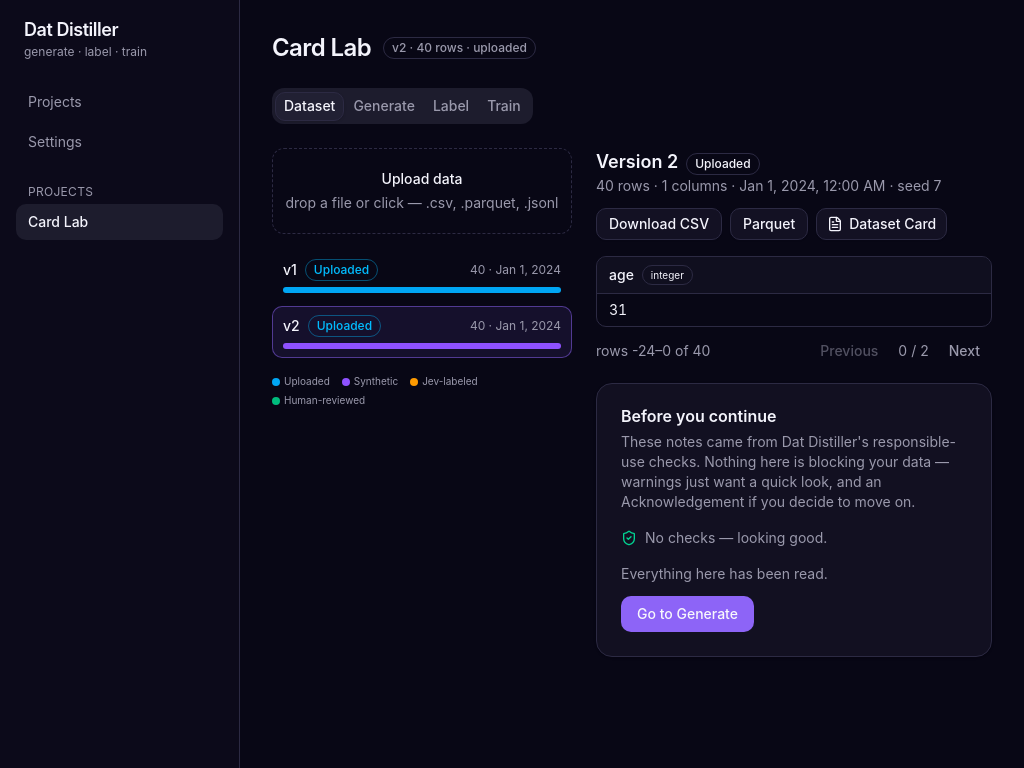
Dataset Cards — from the history panel › shows the raw Markdown on request, and the exact text is downloadable
The image size is (1024, 768).
Click the button "Dataset Card" at (882, 224), box [816,208,947,240]
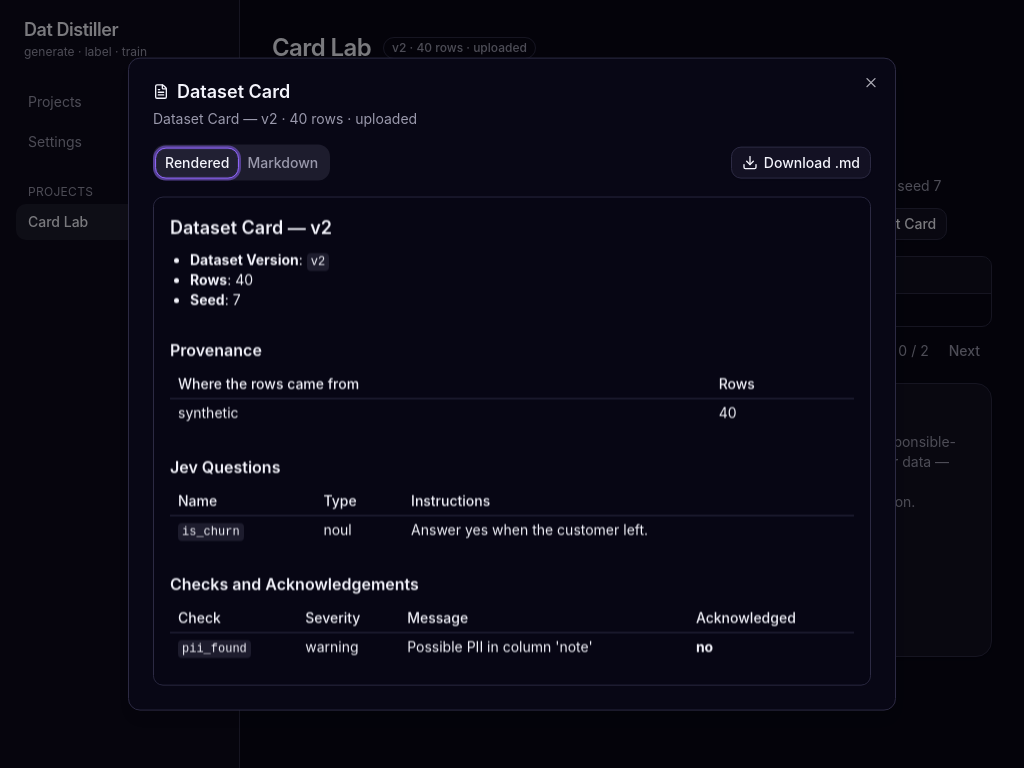
Click the tab "Markdown" at (283, 163), box [238,148,327,177]
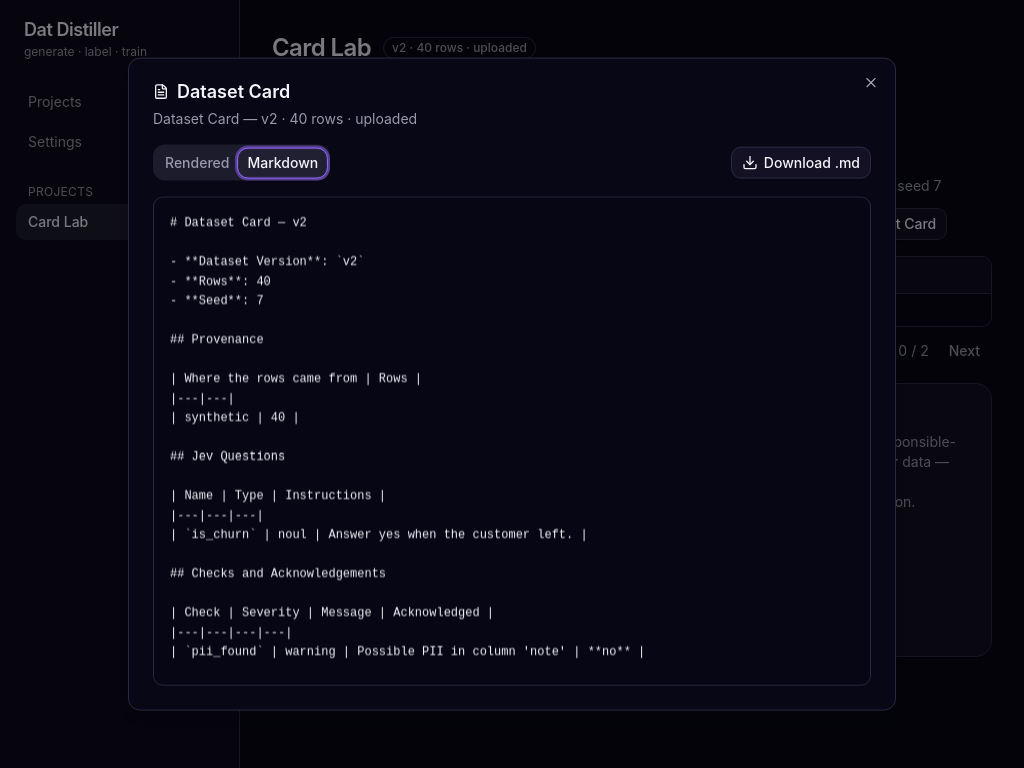
Check: the text with test id "card-raw" shows "# Dataset Card — v2 - **Dataset Version**: `v2` - **Rows**: 40 - **Seed**: 7 ## Provenance | Where the rows came from | Rows | |---|---| | synthetic | 40 | ## J", box [170,216,645,685]
Check: the text with test id "card-raw" shows "|---|---|", box [170,216,645,685]
